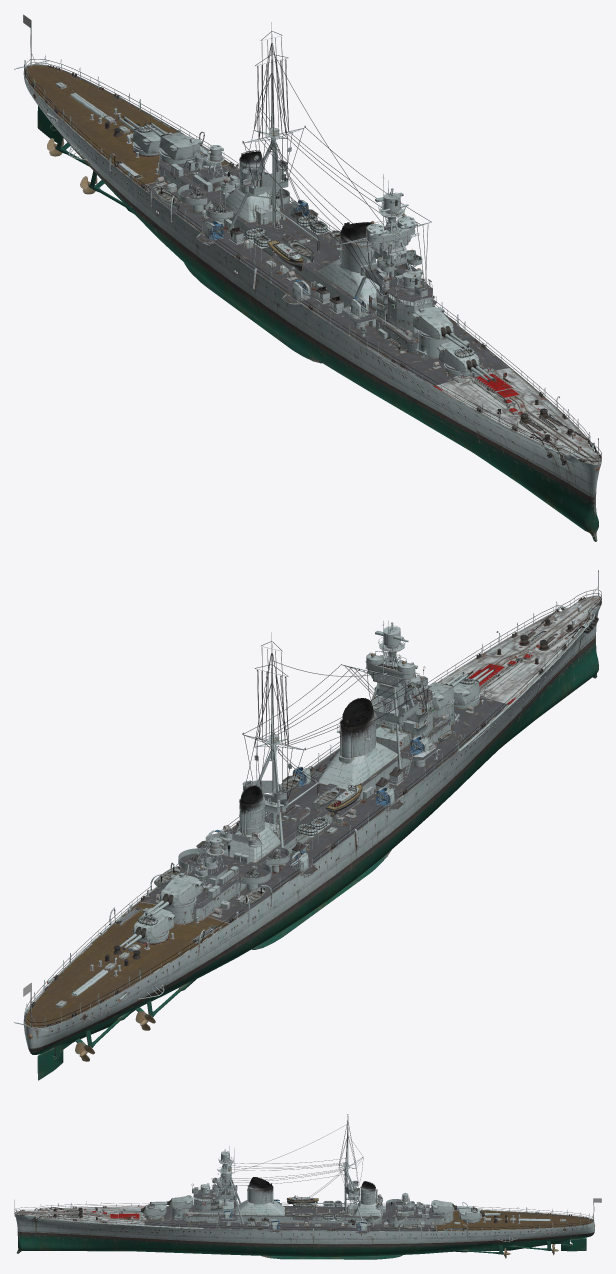
The model's file is rn_trento_war_thunder-maximum-compressed.glb.
The picture shows the model from 3 angles, top to bottom: view 1: azimuth 30°, elevation 25°; view 2: azimuth 150°, elevation 25°; view 3: azimuth 270°, elevation 25°; orthographic projection. The views are drawn at different scales.
Visible parts, largest first — view 1: Object_32, Object_41, Object_44, Object_4, Object_30, Object_14, Object_65, Object_27, Object_29, Object_28, Object_2, Object_51 (+12 smaller); view 2: Object_32, Object_41, Object_44, Object_4, Object_30, Object_14, Object_65, Object_28, Object_29, Object_27, Object_2, Object_51 (+14 smaller); view 3: Object_32, Object_44, Object_41, Object_30, Object_4, Object_29, Object_2, Object_14, Object_65, Object_28, Object_51, Object_27 (+14 smaller).
Part boxes in pixels (box(x1,y1,x2,y2)): Object_32: box(23, 64, 601, 498); Object_41: box(140, 160, 508, 386); Object_44: box(37, 106, 598, 541); Object_4: box(25, 65, 510, 383); Object_30: box(196, 150, 422, 304); Object_14: box(433, 367, 600, 464); Object_65: box(24, 31, 430, 294); Object_27: box(47, 34, 423, 289); Object_29: box(155, 148, 453, 358); Object_28: box(341, 211, 432, 333); Object_2: box(41, 110, 595, 503); Object_51: box(159, 132, 480, 372); Object_32: box(23, 595, 601, 1048); Object_41: box(140, 681, 508, 923); Object_44: box(30, 641, 598, 1080); Object_4: box(24, 671, 472, 1028); Object_30: box(197, 698, 397, 888); Object_14: box(438, 596, 600, 704); Object_65: box(31, 641, 430, 1026); Object_28: box(341, 646, 432, 768); Object_29: box(157, 698, 454, 924); Object_27: box(118, 621, 422, 1001); Object_2: box(28, 636, 595, 1053); Object_51: box(136, 681, 480, 936); Object_32: box(14, 1202, 594, 1244); Object_44: box(17, 1234, 593, 1259); Object_41: box(144, 1180, 443, 1231); Object_30: box(212, 1177, 421, 1216); Object_4: box(124, 1209, 593, 1231); Object_29: box(171, 1203, 453, 1227); Object_2: box(17, 1231, 594, 1246); Object_14: box(15, 1206, 144, 1225); Object_65: box(214, 1116, 592, 1219); Object_28: box(193, 1161, 243, 1223); Object_51: box(143, 1195, 454, 1216); Object_27: box(200, 1116, 539, 1221).
Size of the model in its own units: 23.12 by 53.7 by 199.
31 materials, 31 textured.
